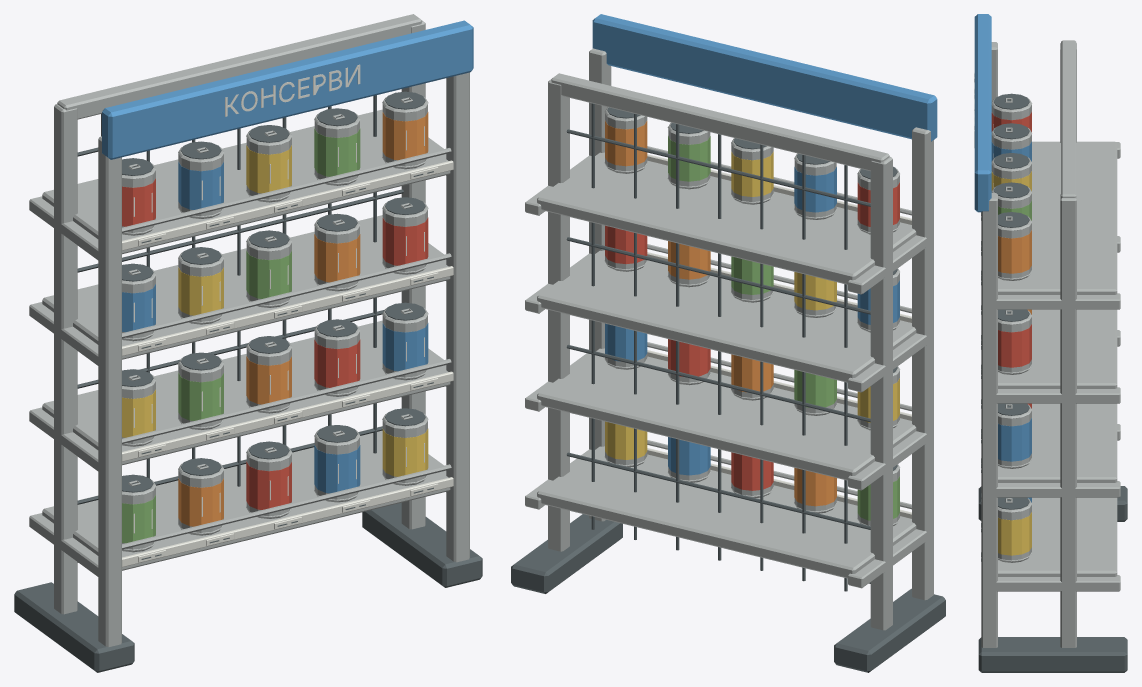
Rendered from Shelf_CannedFood.fbx.
3 renders of one model, left to right at view 1: azimuth 30°, elevation 25°; view 2: azimuth 150°, elevation 25°; view 3: azimuth 270°, elevation 25°, orthographic. The views are drawn at different scales.
Visible parts, largest first — view 1: Shelf_CannedFood__LPCXFER, Shelf_CannedFood__Header_wire__LPCXFER, Shelf_CannedFood__Shelf_3__LPCXFER, Shelf_CannedFood__Shelf_2__LPCXFER, Shelf_CannedFood__Shelf_4__LPCXFER, Shelf_CannedFood__Shelf_1__LPCXFER, Shelf_CannedFood__Back_wire__LPCXFER, Shelf_CannedFood_Item_1_F_5_can__LPCXFER, Shelf_CannedFood_Item_3_F_4_can__LPCXFER, Shelf_CannedFood_Item_4_F_5_can__LPCXFER, Shelf_CannedFood_Item_3_F_5_can__LPCXFER, Shelf_CannedFood_Item_2_F_5_can__LPCXFER (+16 smaller); view 2: Shelf_CannedFood__LPCXFER, Shelf_CannedFood__Shelf_4__LPCXFER, Shelf_CannedFood__Shelf_3__LPCXFER, Shelf_CannedFood__Shelf_2__LPCXFER, Shelf_CannedFood__Shelf_1__LPCXFER, Shelf_CannedFood__Header_wire__LPCXFER, Shelf_CannedFood__Back_wire__LPCXFER, Shelf_CannedFood_Item_4_F_3_can__LPCXFER, Shelf_CannedFood_Item_4_F_2_can__LPCXFER, Shelf_CannedFood_Item_4_F_5_can__LPCXFER, Shelf_CannedFood_Item_4_F_4_can__LPCXFER, Shelf_CannedFood_Item_1_F_3_can__LPCXFER (+15 smaller); view 3: Shelf_CannedFood__LPCXFER, Shelf_CannedFood__Shelf_4__LPCXFER, Shelf_CannedFood__Shelf_1__LPCXFER, Shelf_CannedFood__Shelf_2__LPCXFER, Shelf_CannedFood__Shelf_3__LPCXFER, Shelf_CannedFood__Header_wire__LPCXFER, Shelf_CannedFood_Item_4_F_5_can__LPCXFER, Shelf_CannedFood_Item_1_F_5_can__LPCXFER, Shelf_CannedFood_Item_3_F_5_can__LPCXFER, Shelf_CannedFood_Item_2_F_5_can__LPCXFER, Shelf_CannedFood_Item_4_F_3_can__LPCXFER, Shelf_CannedFood_Item_4_F_1_can__LPCXFER (+2 smaller).
Boxes of the visible parts, x1,y1,x2,y2 form: Shelf_CannedFood__LPCXFER: (14,14,482,672); Shelf_CannedFood__Header_wire__LPCXFER: (102,20,473,159); Shelf_CannedFood__Shelf_3__LPCXFER: (42,215,453,359); Shelf_CannedFood__Shelf_2__LPCXFER: (42,320,453,465); Shelf_CannedFood__Shelf_4__LPCXFER: (42,109,453,254); Shelf_CannedFood__Shelf_1__LPCXFER: (42,426,453,570); Shelf_CannedFood__Back_wire__LPCXFER: (77,95,403,562); Shelf_CannedFood_Item_1_F_5_can__LPCXFER: (382,408,428,485); Shelf_CannedFood_Item_3_F_4_can__LPCXFER: (314,213,360,291); Shelf_CannedFood_Item_4_F_5_can__LPCXFER: (382,91,428,169); Shelf_CannedFood_Item_3_F_5_can__LPCXFER: (382,197,428,274); Shelf_CannedFood_Item_2_F_5_can__LPCXFER: (382,302,428,380); Shelf_CannedFood__LPCXFER: (511,48,945,672); Shelf_CannedFood__Shelf_4__LPCXFER: (537,146,916,284); Shelf_CannedFood__Shelf_3__LPCXFER: (537,244,916,382); Shelf_CannedFood__Shelf_2__LPCXFER: (537,342,916,480); Shelf_CannedFood__Shelf_1__LPCXFER: (537,440,916,578); Shelf_CannedFood__Header_wire__LPCXFER: (592,14,937,141); Shelf_CannedFood__Back_wire__LPCXFER: (566,103,870,591); Shelf_CannedFood_Item_4_F_3_can__LPCXFER: (731,138,773,204); Shelf_CannedFood_Item_4_F_2_can__LPCXFER: (794,153,836,219); Shelf_CannedFood_Item_4_F_5_can__LPCXFER: (604,107,647,173); Shelf_CannedFood_Item_4_F_4_can__LPCXFER: (667,122,710,189); Shelf_CannedFood_Item_1_F_3_can__LPCXFER: (731,452,773,497); Shelf_CannedFood__LPCXFER: (978,40,1127,672); Shelf_CannedFood__Shelf_4__LPCXFER: (981,141,1117,294); Shelf_CannedFood__Shelf_1__LPCXFER: (981,434,1117,576); Shelf_CannedFood__Shelf_2__LPCXFER: (981,340,1117,482); Shelf_CannedFood__Shelf_3__LPCXFER: (981,246,1117,388); Shelf_CannedFood__Header_wire__LPCXFER: (974,14,991,212); Shelf_CannedFood_Item_4_F_5_can__LPCXFER: (998,212,1032,280); Shelf_CannedFood_Item_1_F_5_can__LPCXFER: (998,497,1032,562); Shelf_CannedFood_Item_3_F_5_can__LPCXFER: (998,309,1032,374); Shelf_CannedFood_Item_2_F_5_can__LPCXFER: (998,403,1032,468); Shelf_CannedFood_Item_4_F_3_can__LPCXFER: (991,153,1032,211); Shelf_CannedFood_Item_4_F_1_can__LPCXFER: (991,93,1032,152).
Size of the model in its own units: 154 by 212 by 59.15.
